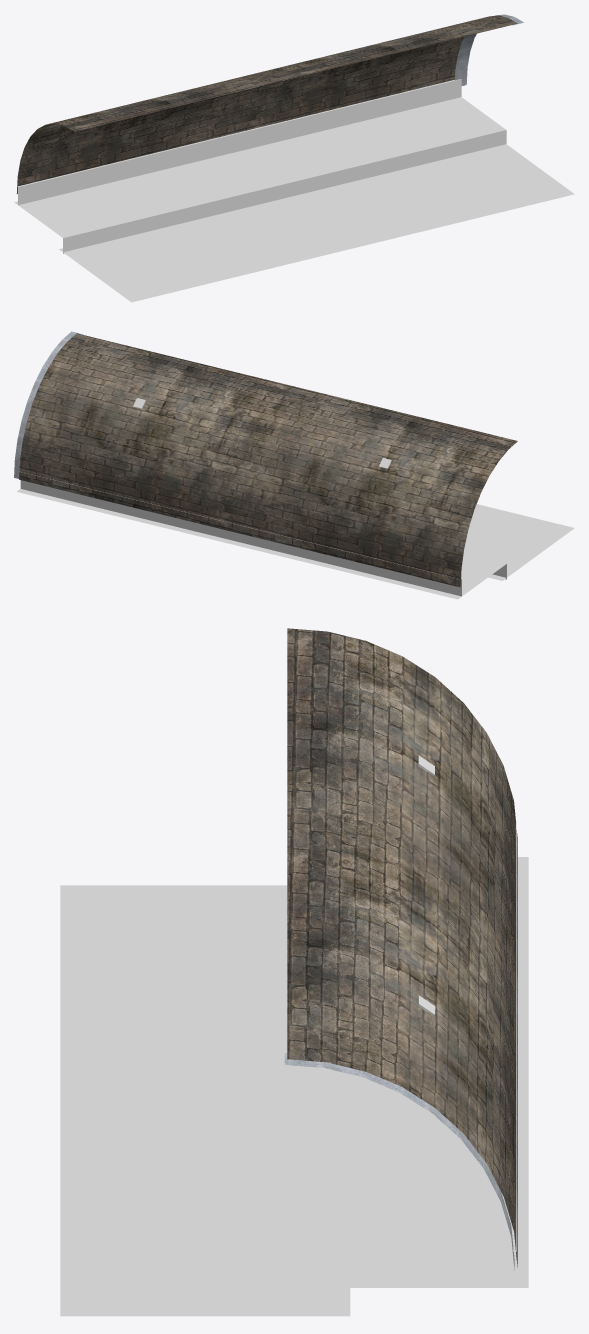
The model's file is sewer testugsd.fbx.
3 views of the same model, one above another, from view 1: azimuth 30°, elevation 25°; view 2: azimuth 150°, elevation 25°; view 3: azimuth 270°, elevation 25° (orthographic). The views are drawn at different scales.
Parts seen in each view (by area): view 1: Cylinder, Cylinder.003; view 2: Cylinder, Cylinder.003; view 3: Cylinder, Cylinder.003.
Boxes of the visible parts, bbox=[...] form: Cylinder: bbox=[14, 15, 574, 302]; Cylinder.003: bbox=[455, 14, 523, 85]; Cylinder: bbox=[16, 333, 574, 599]; Cylinder.003: bbox=[14, 331, 83, 478]; Cylinder: bbox=[60, 628, 528, 1316]; Cylinder.003: bbox=[284, 1053, 514, 1270].
Bounding box in the file's own units: 2198 × 611 × 996.
